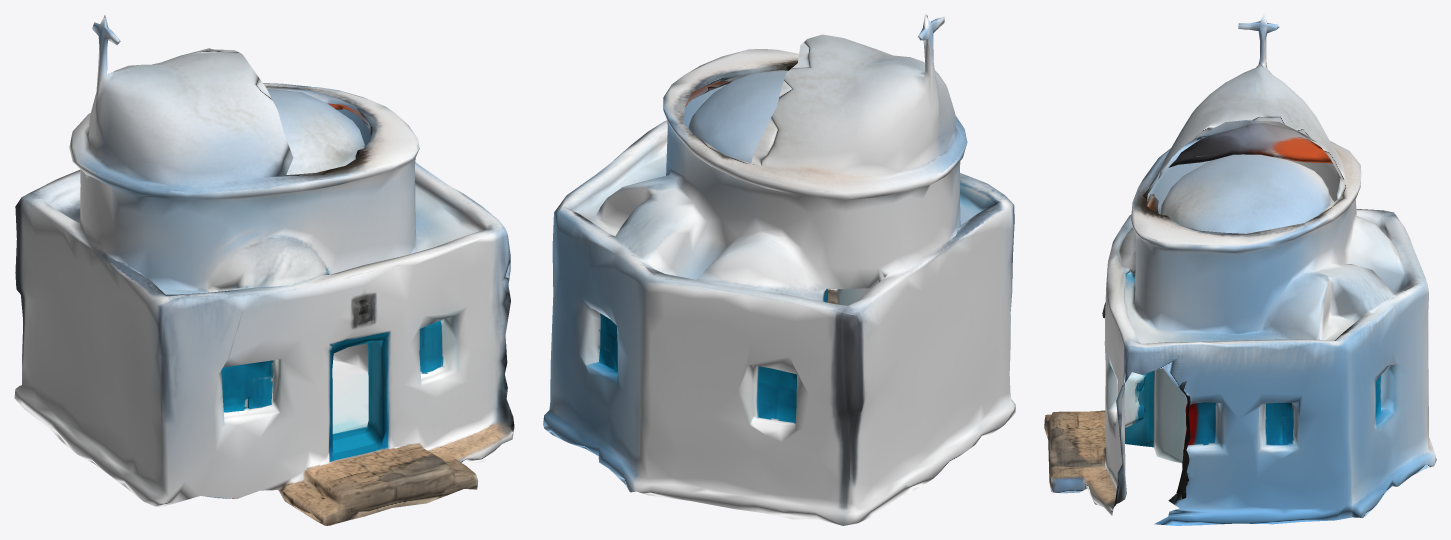
Rendered from whitehouse.glb.
3 renders of one model, left to right at view 1: azimuth 30°, elevation 25°; view 2: azimuth 150°, elevation 25°; view 3: azimuth 270°, elevation 25°, orthographic. The views are drawn at different scales.
Parts seen in each view (by area): view 1: geometry_0; view 2: geometry_0; view 3: geometry_0.
Part boxes in pixels (x1,y1,x2,y2): geometry_0: (14, 14, 514, 525); geometry_0: (543, 14, 1015, 525); geometry_0: (1044, 14, 1436, 525).
Size of the model in its own units: 0.817 by 0.9773 by 0.921.
1 material, 1 textured.
